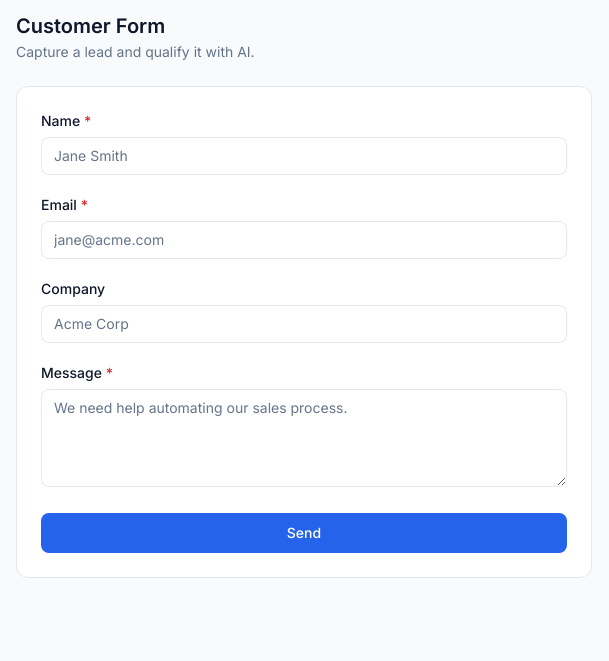
NewLead form validation › shows validation errors for an empty form
Click the button "Send" at (304, 533), box 41,513 -> 567,553
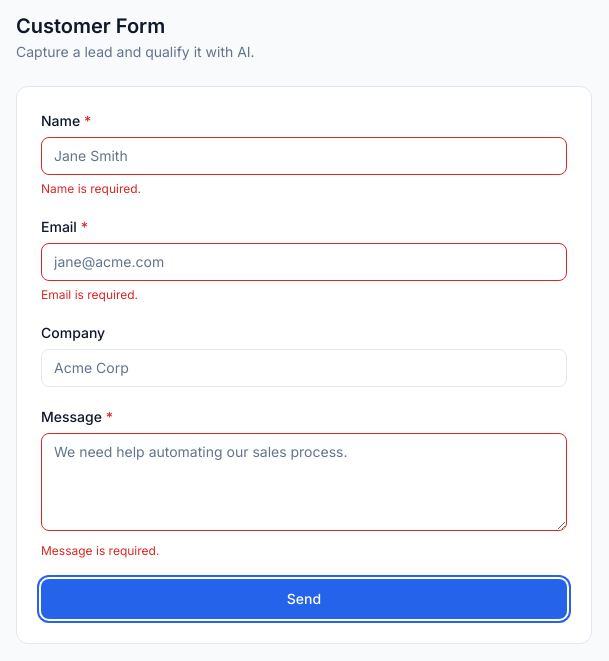
Now the text "Name is required." is shown, box 41,181 -> 141,196
Now the text "Email is required." is shown, box 41,287 -> 138,302
Now the text "Message is required." is shown, box 41,543 -> 159,558
